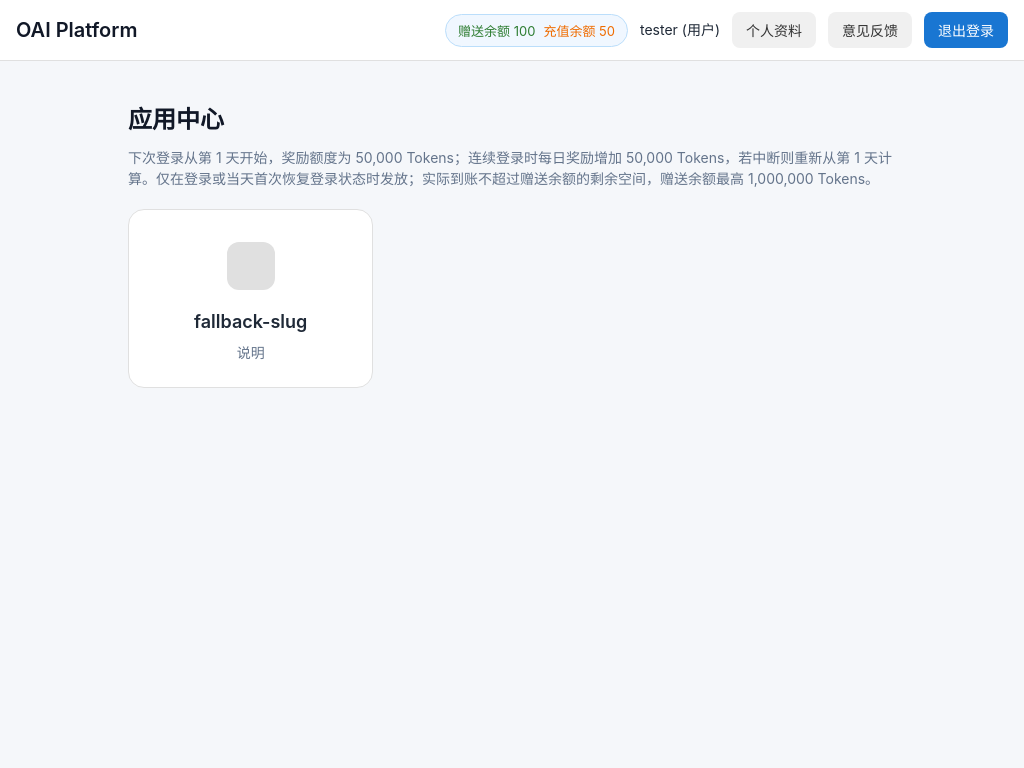
Test: AppHub › opens feedback form with required text and an optional screenshot
Check: the heading "应用中心" is shown, box 128,105 -> 224,134
Click the button "意见反馈": {"x": 870, "y": 30} 828,12 -> 912,48
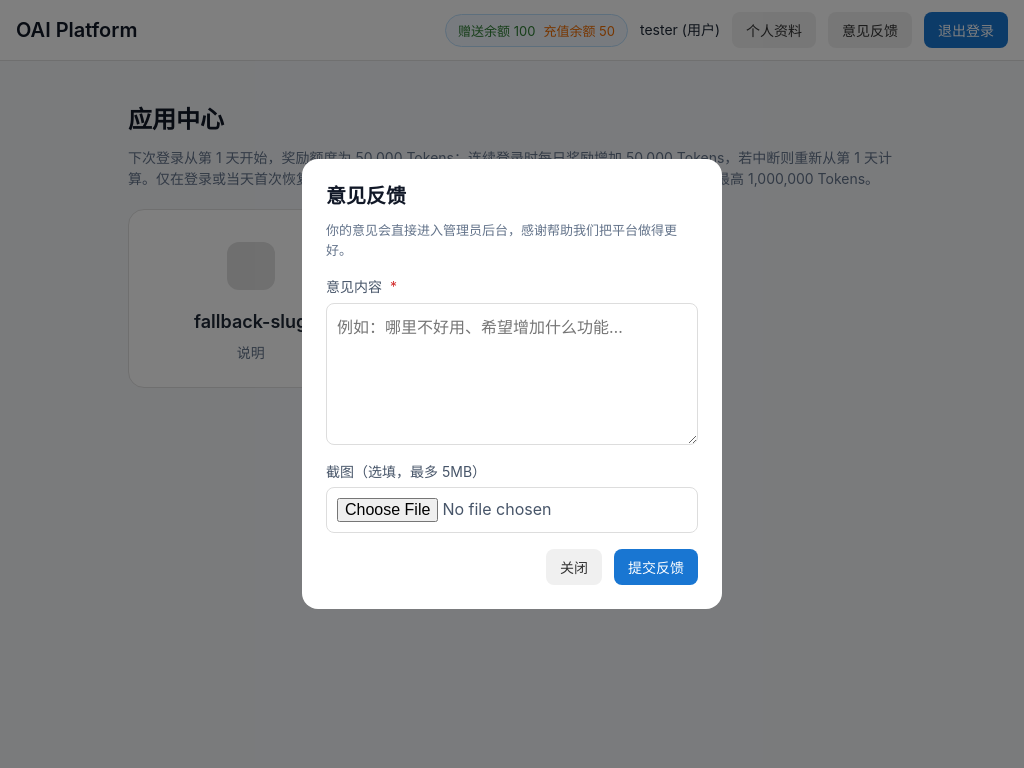
Check: the heading "意见反馈" is shown, box 326,184 -> 406,208
